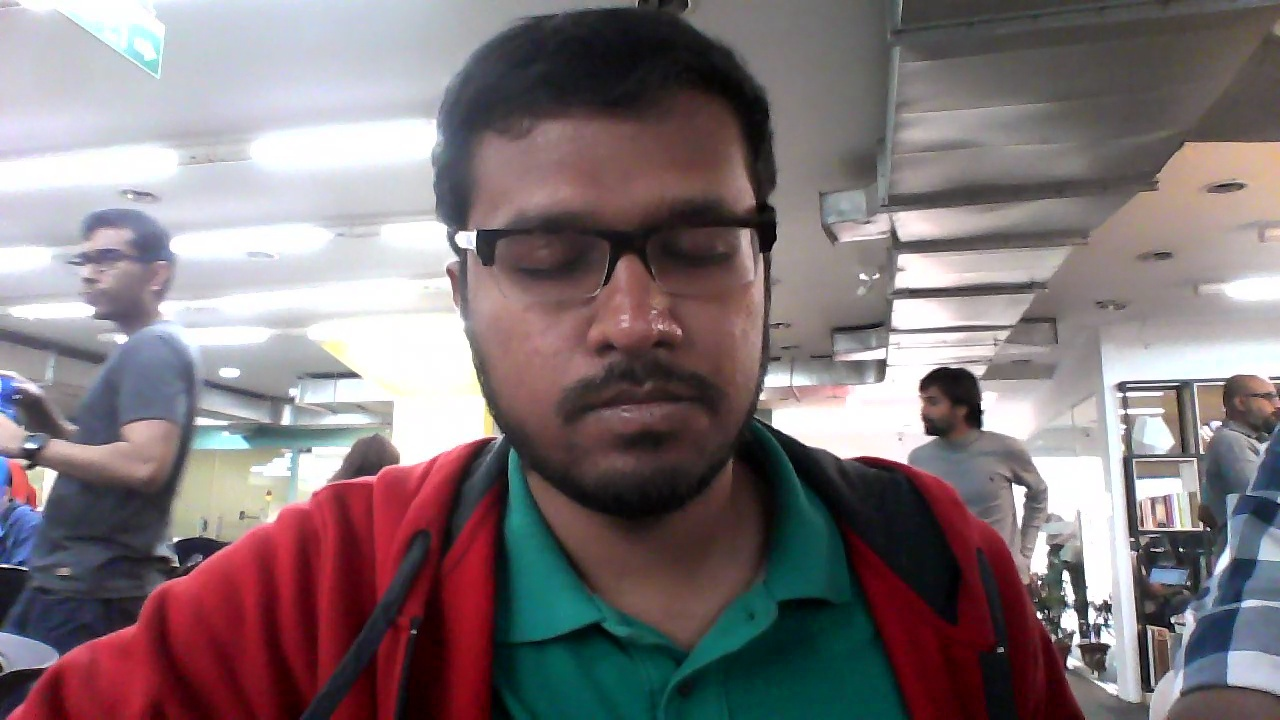closed: (441, 9, 781, 519)
